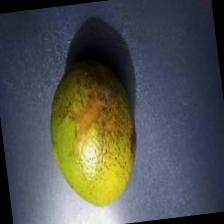Orange Rotten: (32, 40, 158, 224)
